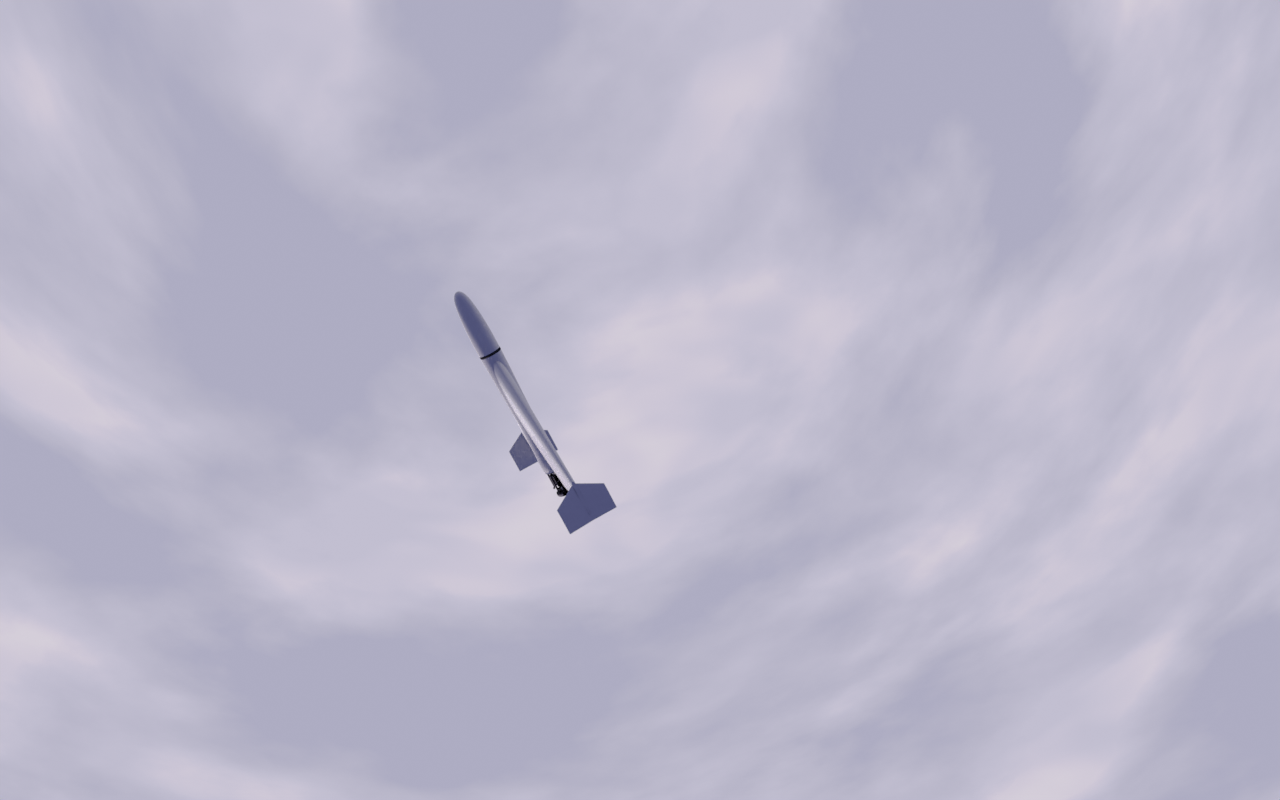shahed: (454, 291, 619, 536)
